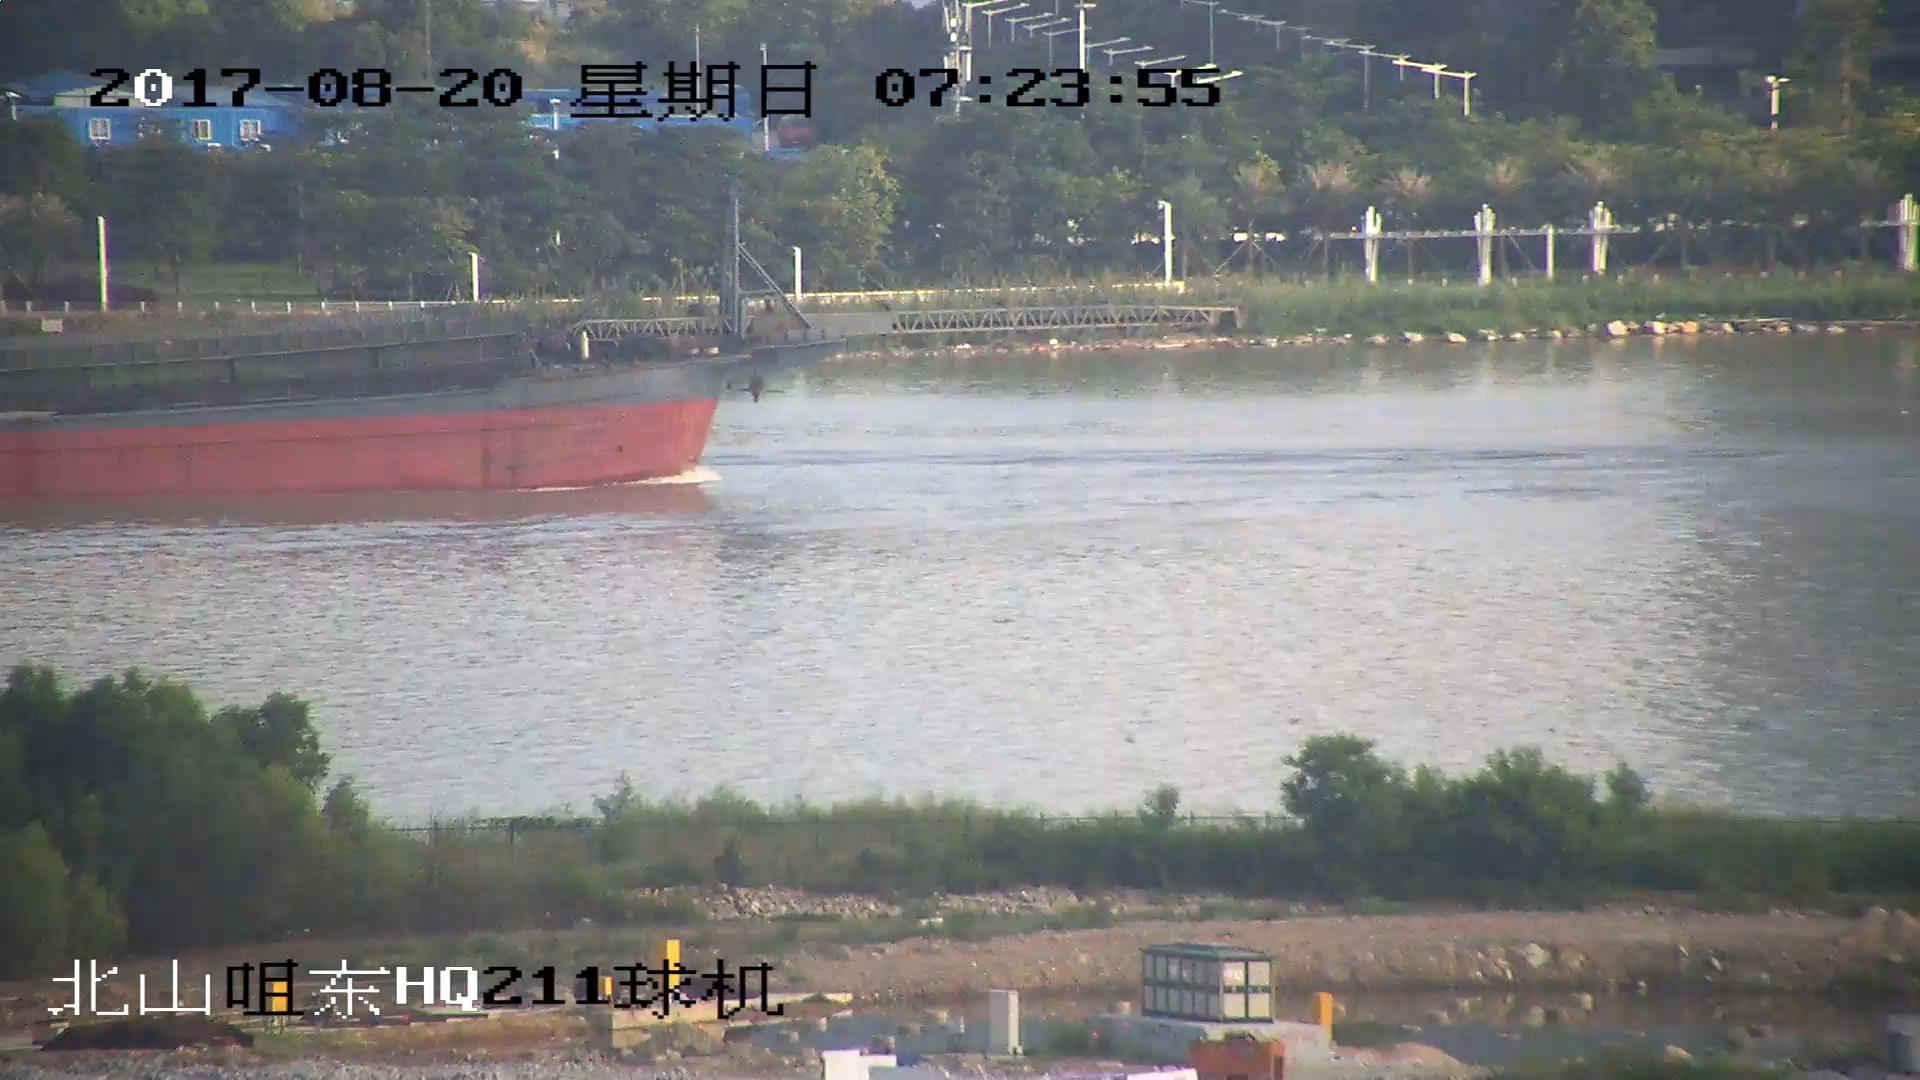bulk cargo carrier: (1, 188, 1225, 511)
